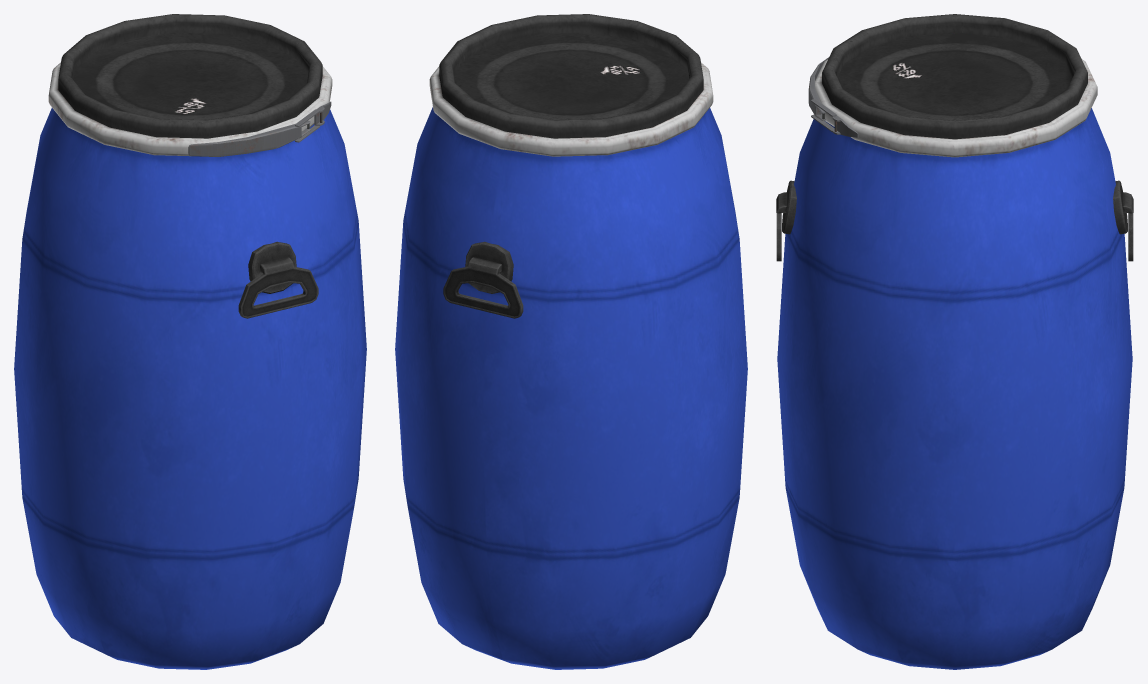
The model's file is barrel_plastic.glb.
3 views of the same model, side by side, from view 1: azimuth 30°, elevation 25°; view 2: azimuth 150°, elevation 25°; view 3: azimuth 270°, elevation 25° (orthographic).
Parts seen in each view (by area): view 1: Barrel_Low, Handle_Low, Hinge_Low; view 2: Barrel_Low, Handle_Low; view 3: Barrel_Low, Handle_Low, Hinge_Low.
Part boxes in pixels (<box>): Barrel_Low: <box>14,14,366,669</box>; Handle_Low: <box>238,241,318,318</box>; Hinge_Low: <box>188,101,331,156</box>; Barrel_Low: <box>395,14,747,669</box>; Handle_Low: <box>443,241,523,318</box>; Barrel_Low: <box>777,14,1132,669</box>; Handle_Low: <box>776,180,1133,261</box>; Hinge_Low: <box>808,57,858,137</box>.
Size of the model in its own units: 55.94 by 95.68 by 56.23.
1 material, 1 textured.
